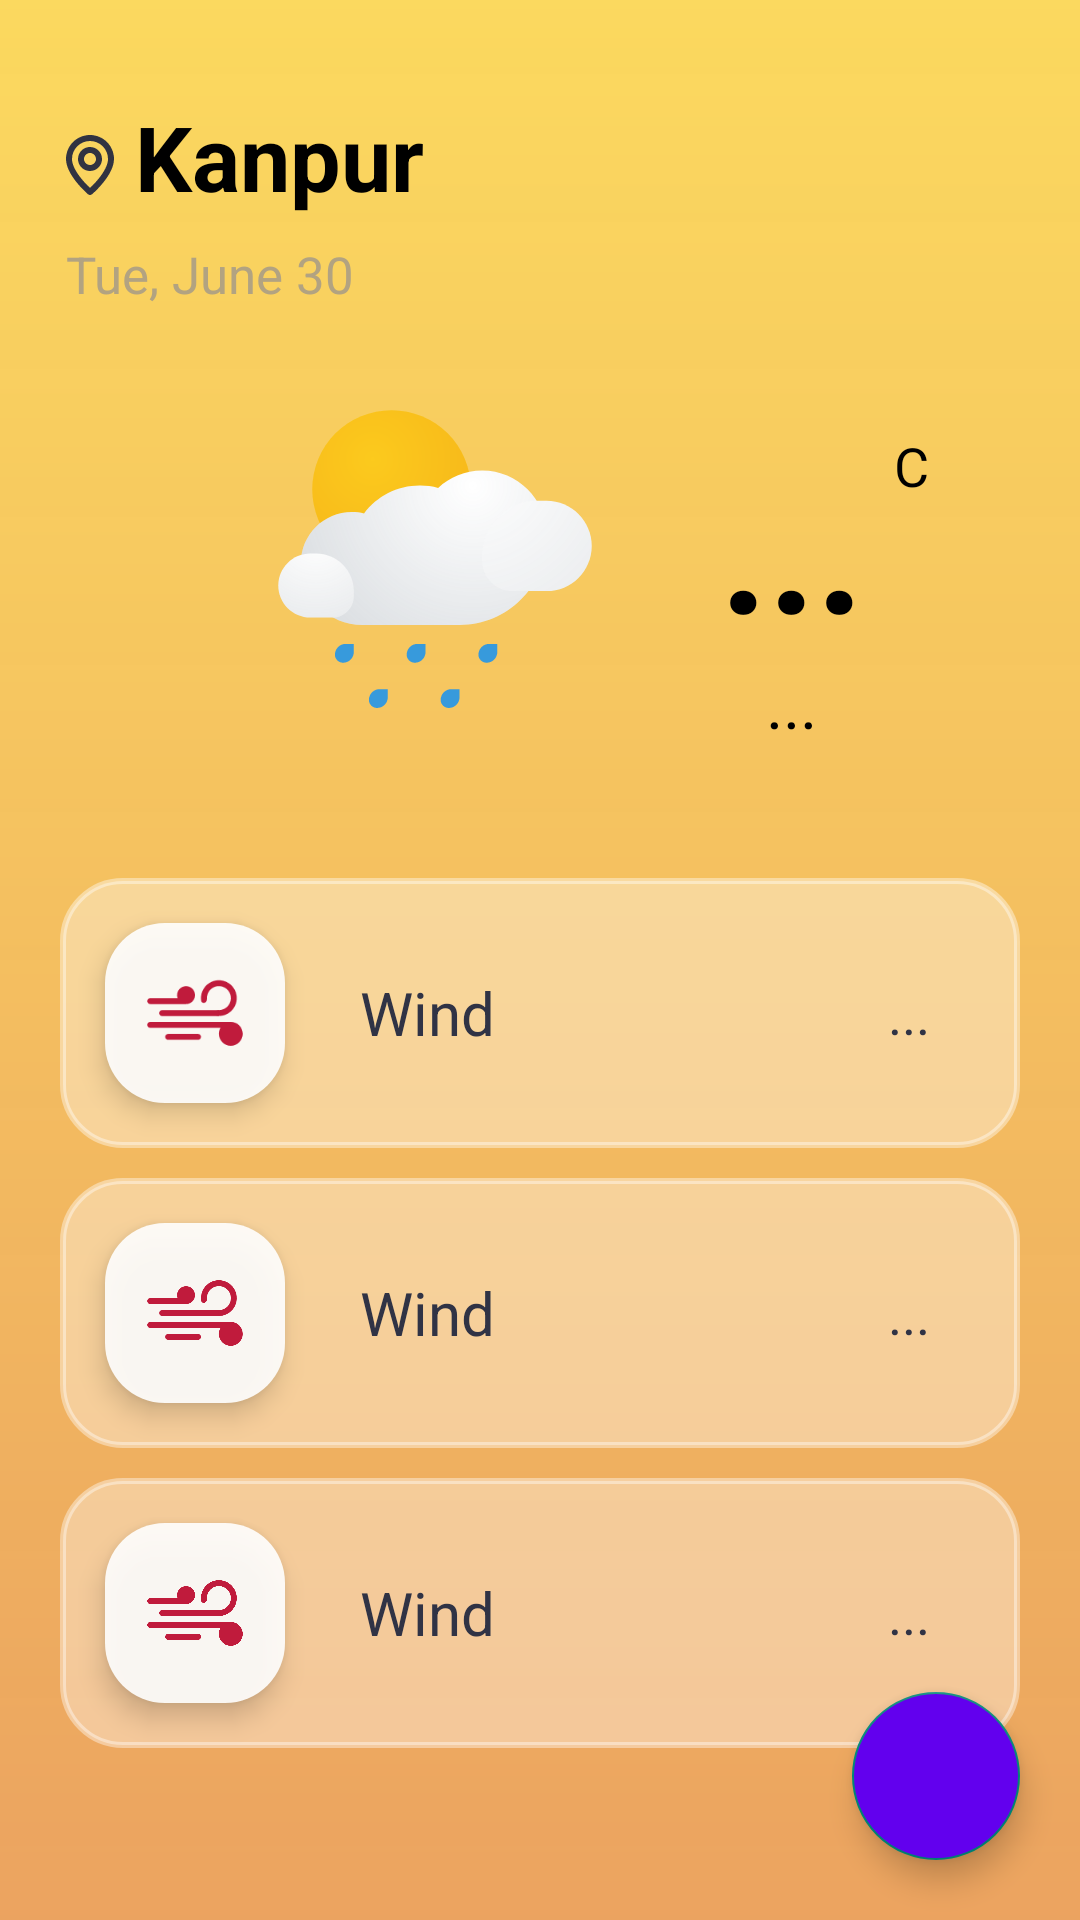

Locate icon controls on the screen. Image size 1080 x 1920, boxes as [x1=x1, y1=y1, x2=x2, y2=y2].
cludy: [x1=278, y1=410, x2=592, y2=708]
location: [x1=66, y1=135, x2=114, y2=195]
